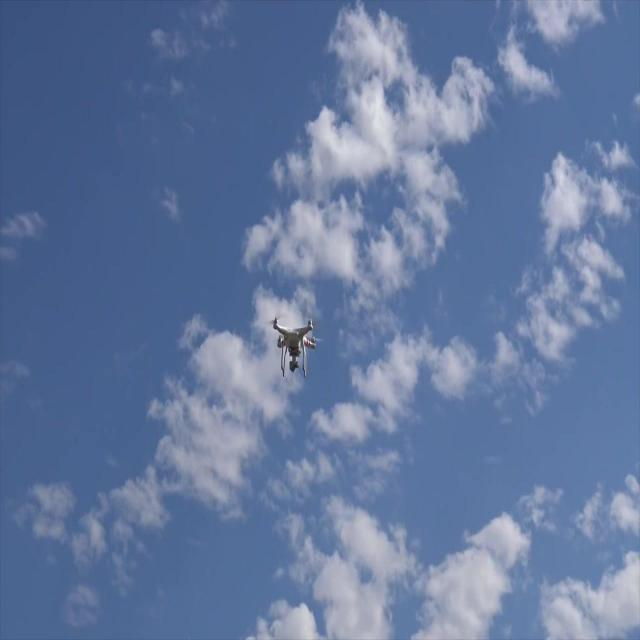UAV: (270, 316, 321, 378)
